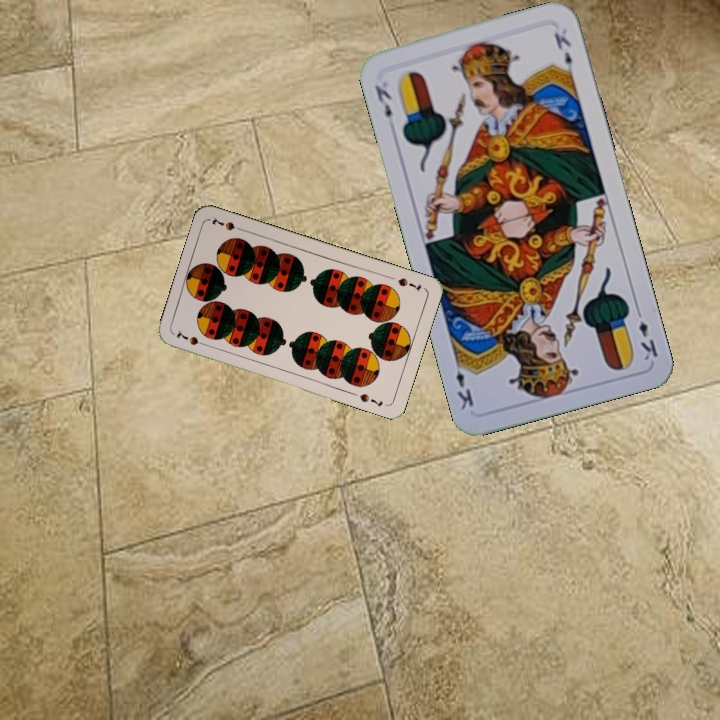EK: (632, 304, 661, 363), (370, 81, 395, 121)
S7: (173, 326, 210, 349), (394, 274, 424, 294)
